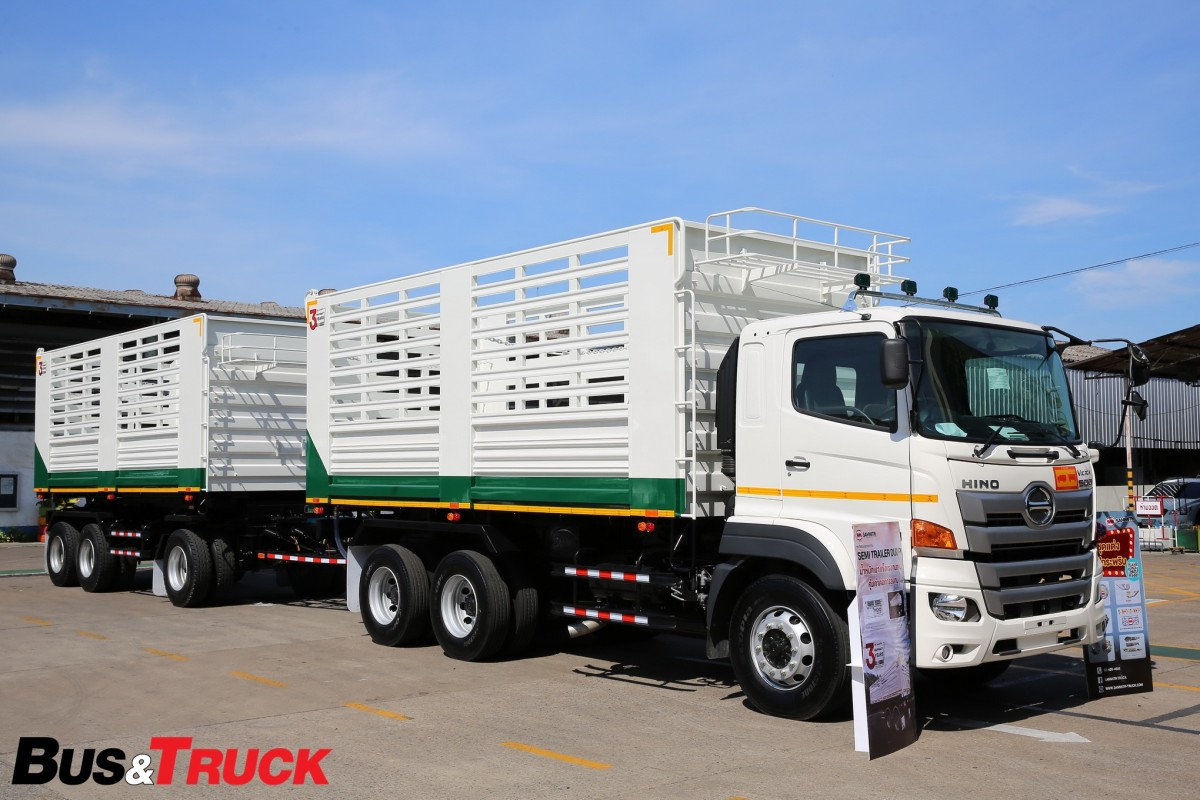truck: (461, 228, 1111, 730)
